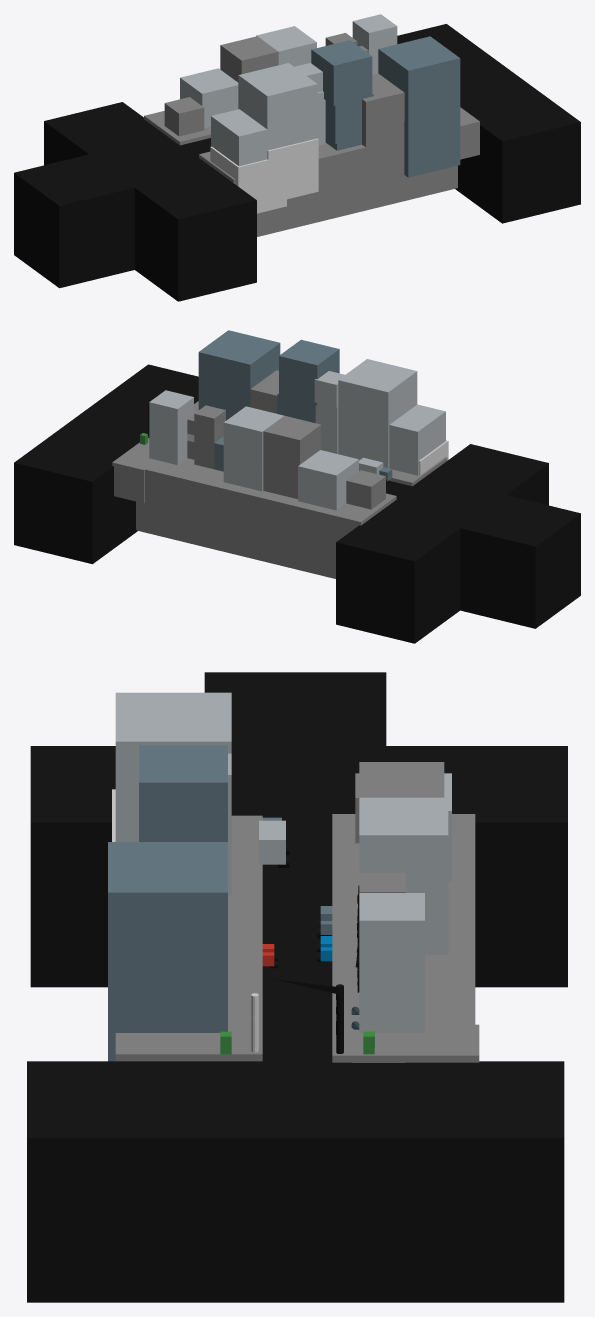
3 renders of one model, top to bottom at view 1: azimuth 30°, elevation 25°; view 2: azimuth 150°, elevation 25°; view 3: azimuth 270°, elevation 25°, orthographic. The views are drawn at different scales.
Parts seen in each view (by area): view 1: node_MeshObject1528098944-PolyPaper23; view 2: node_MeshObject1528098944-PolyPaper23; view 3: node_MeshObject1528098944-PolyPaper23.
Part boxes in pixels (x1,y1,x2,y2): node_MeshObject1528098944-PolyPaper23: [14, 14, 580, 301]; node_MeshObject1528098944-PolyPaper23: [14, 330, 580, 643]; node_MeshObject1528098944-PolyPaper23: [27, 672, 567, 1302].
Bounding box in the file's own units: 2.85 × 0.98 × 1.4.
